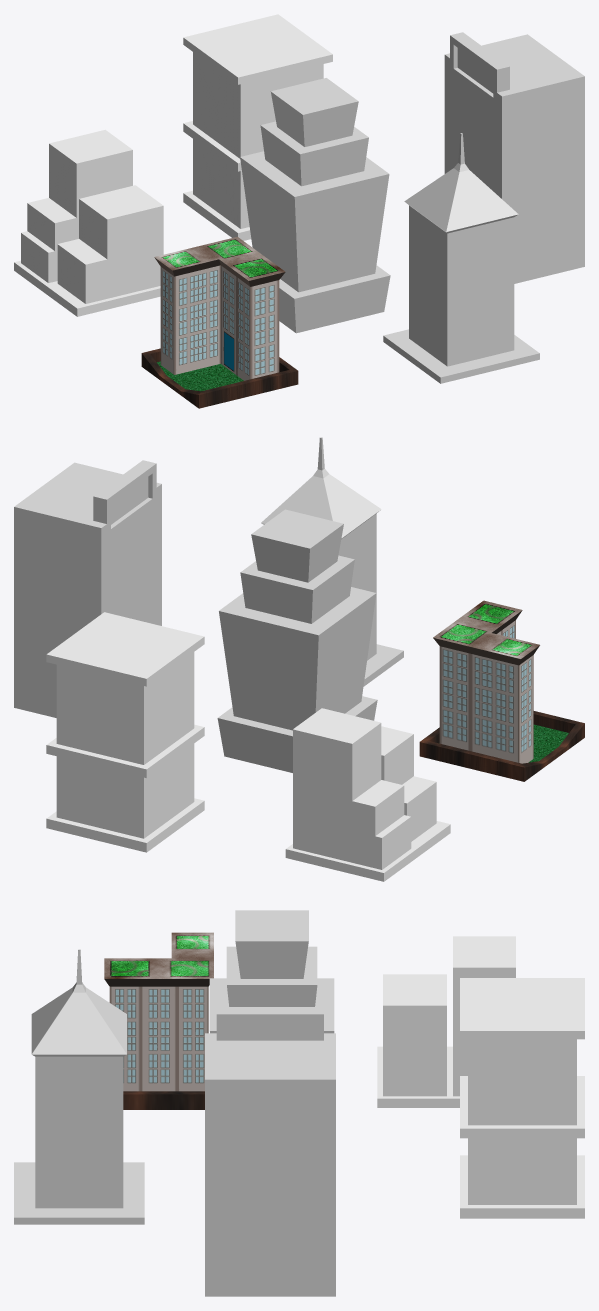
File: CityBuildings.FBX
3 renders of one model, top to bottom at view 1: azimuth 30°, elevation 25°; view 2: azimuth 150°, elevation 25°; view 3: azimuth 270°, elevation 25°, orthographic. The views are drawn at different scales.
Visible parts, largest first — view 1: Multiple_MultiStorey, Set1; view 2: Set1, Multiple_MultiStorey; view 3: Multiple_MultiStorey, Set1.
Boxes of the visible parts, x1=… form: Multiple_MultiStorey: x1=240, y1=32, x2=584, y2=383; Set1: x1=14, y1=14, x2=332, y2=408; Set1: x1=46, y1=600, x2=584, y2=881; Multiple_MultiStorey: x1=14, y1=437, x2=403, y2=772; Multiple_MultiStorey: x1=14, y1=910, x2=335, y2=1296; Set1: x1=104, y1=932, x2=584, y2=1218.
Bounding box in the file's own units: 1034 × 493 × 1031.
Materials: 1 (1 with a texture image).
